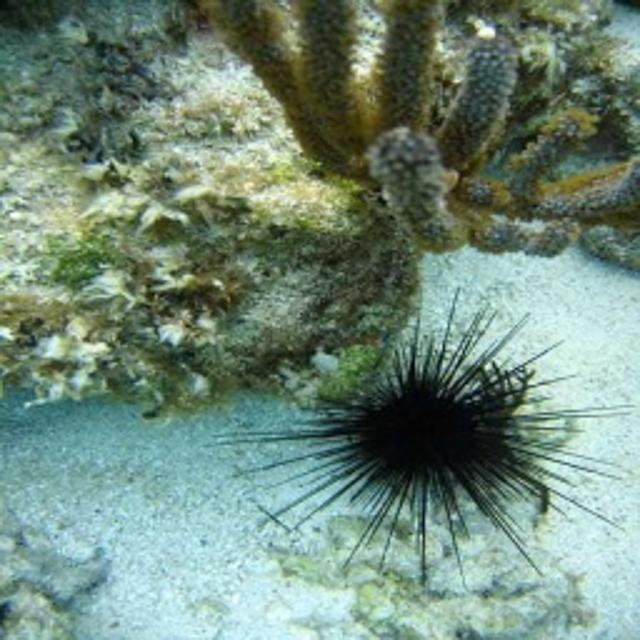Urchin: (221, 283, 628, 568)
